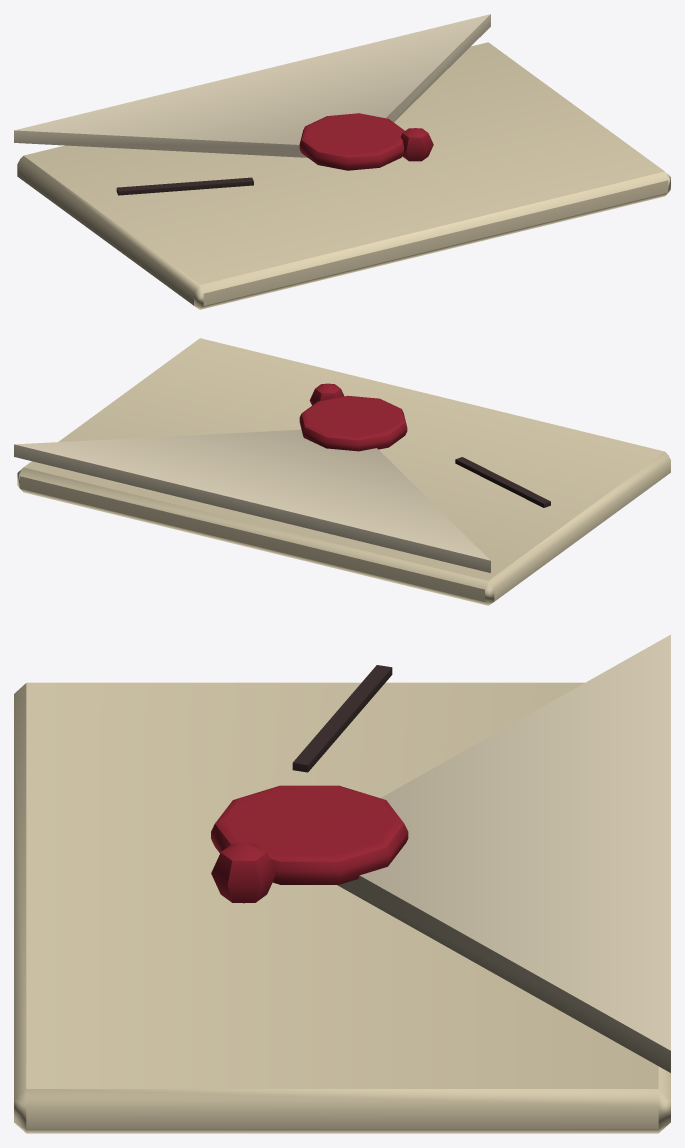
File: curio_loveLetter.glb
3 views of the same model, one above another, from view 1: azimuth 30°, elevation 25°; view 2: azimuth 150°, elevation 25°; view 3: azimuth 270°, elevation 25° (orthographic). The views are drawn at different scales.
Visible parts, largest first — view 1: curio_loveLetter; view 2: curio_loveLetter; view 3: curio_loveLetter.
Boxes of the visible parts, x1,y1,x2,y2 form: curio_loveLetter: (14,14,670,309); curio_loveLetter: (14,338,670,605); curio_loveLetter: (14,634,670,1133).
Bounding box in the file's own units: 0.12 × 0.0168 × 0.08.
